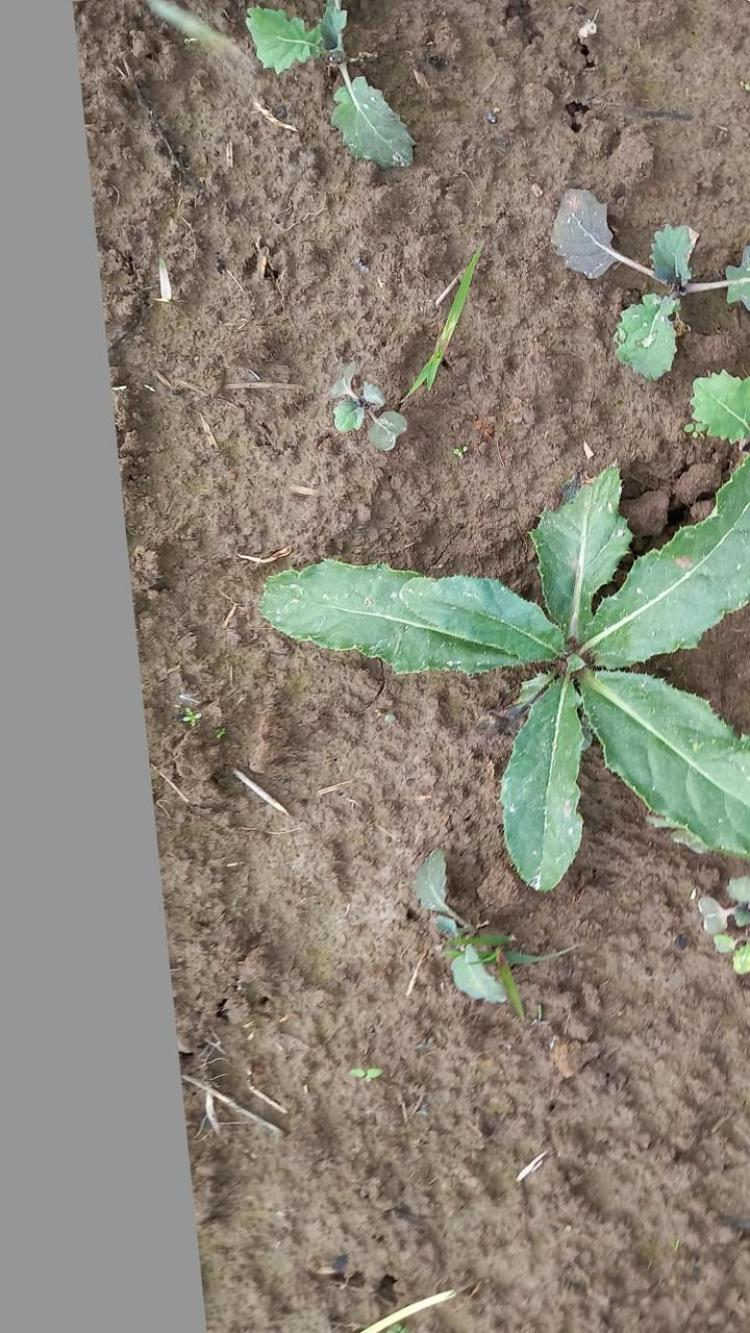bodyak: (281, 458, 750, 889)
